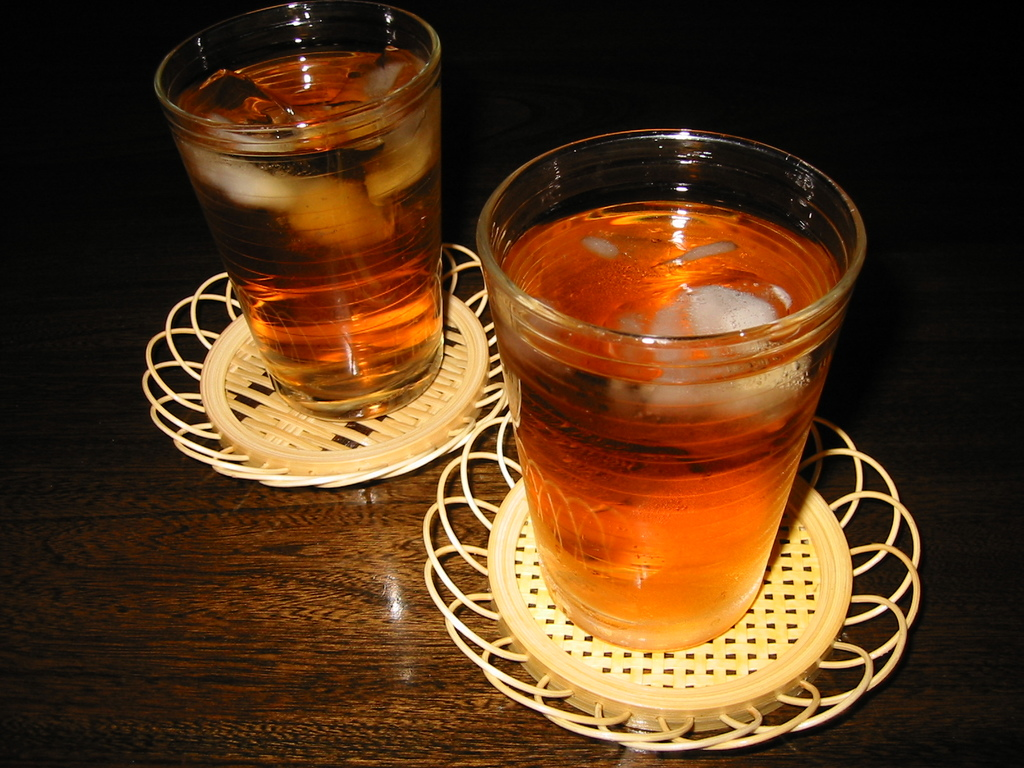Beer: (475, 124, 866, 653), (149, 0, 442, 419)
